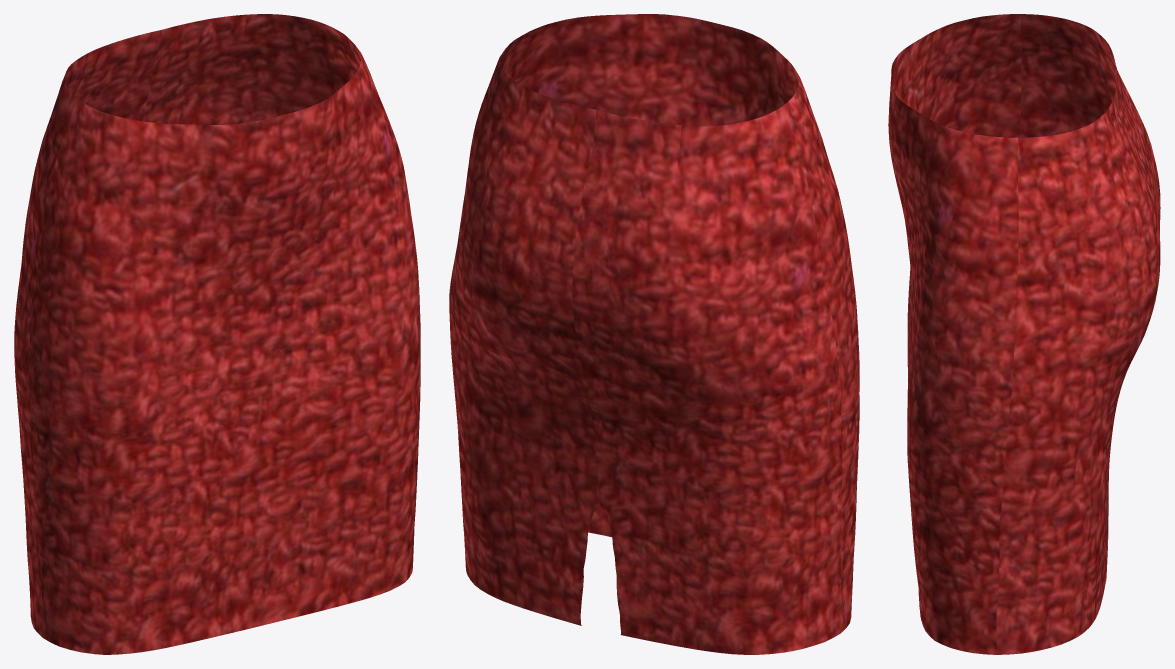
Rendered from Red Skirt.fbx.
3 views of the same model, side by side, from view 1: azimuth 30°, elevation 25°; view 2: azimuth 150°, elevation 25°; view 3: azimuth 270°, elevation 25° (orthographic). The views are drawn at different scales.
Parts seen in each view (by area): view 1: Skirt; view 2: Skirt; view 3: Skirt.
Part boxes in pixels (<box>): Skirt: <box>14,14,420,654</box>; Skirt: <box>449,14,859,654</box>; Skirt: <box>888,14,1160,654</box>.
Size of the model in its own units: 13.08 by 17.41 by 8.67.
1 material, 1 textured.
